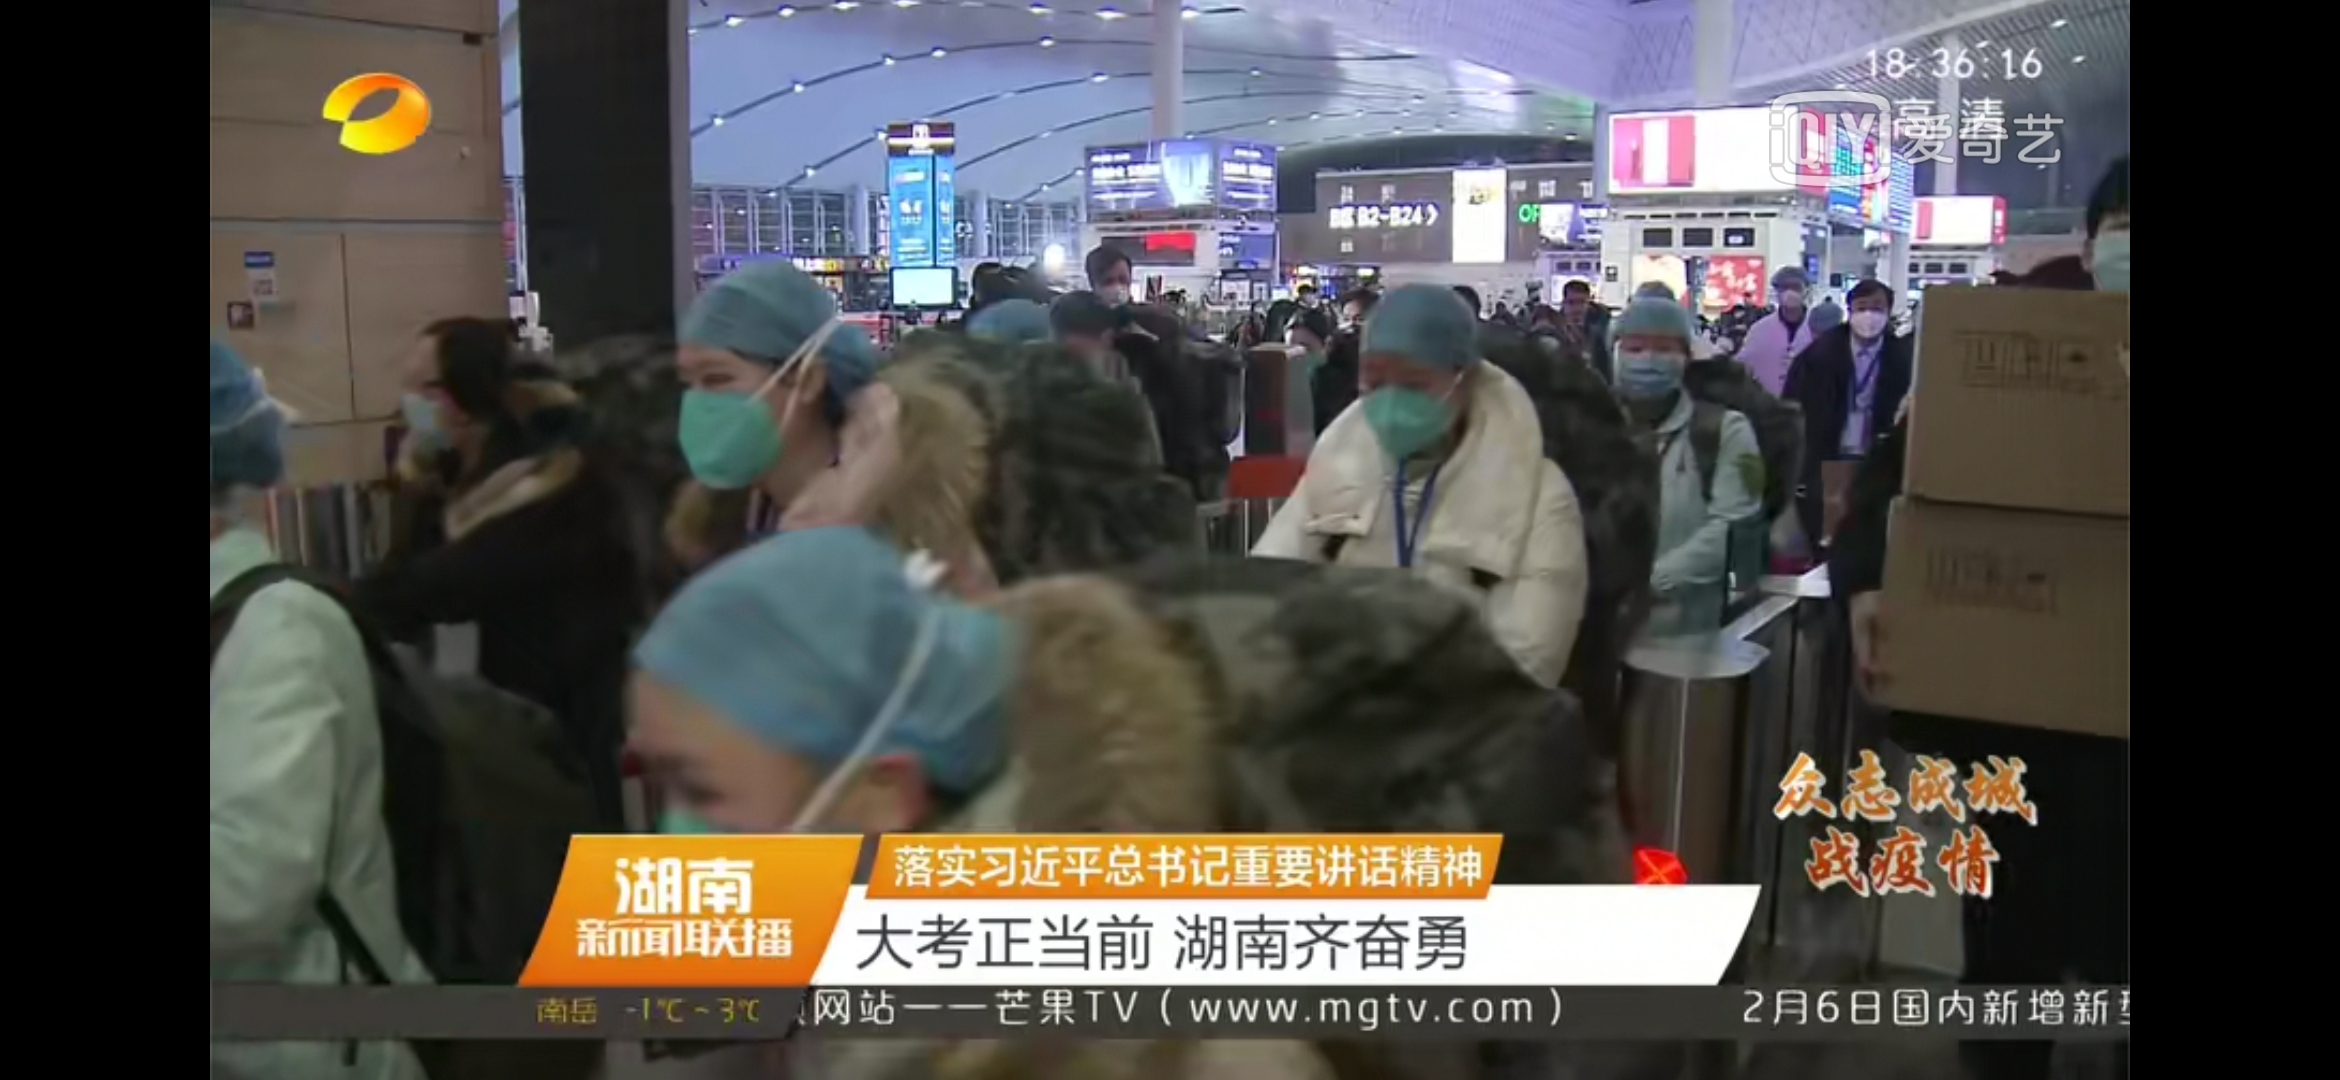correctlyWear: (619, 723, 927, 834), (672, 342, 827, 494), (1352, 351, 1476, 470), (395, 365, 469, 468), (1610, 337, 1695, 421), (2079, 210, 2136, 298), (1092, 260, 1130, 312), (1852, 297, 1892, 345), (1777, 273, 1809, 309)
